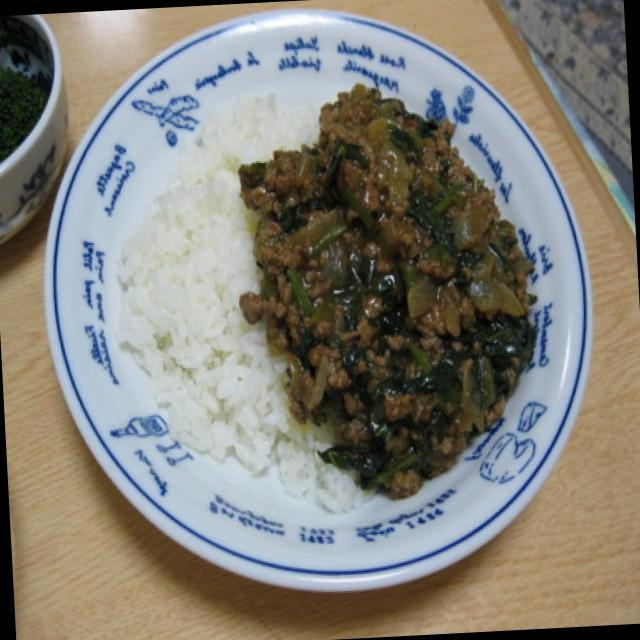Beef Curry: (238, 80, 531, 499)
Rice: (104, 93, 285, 487)
